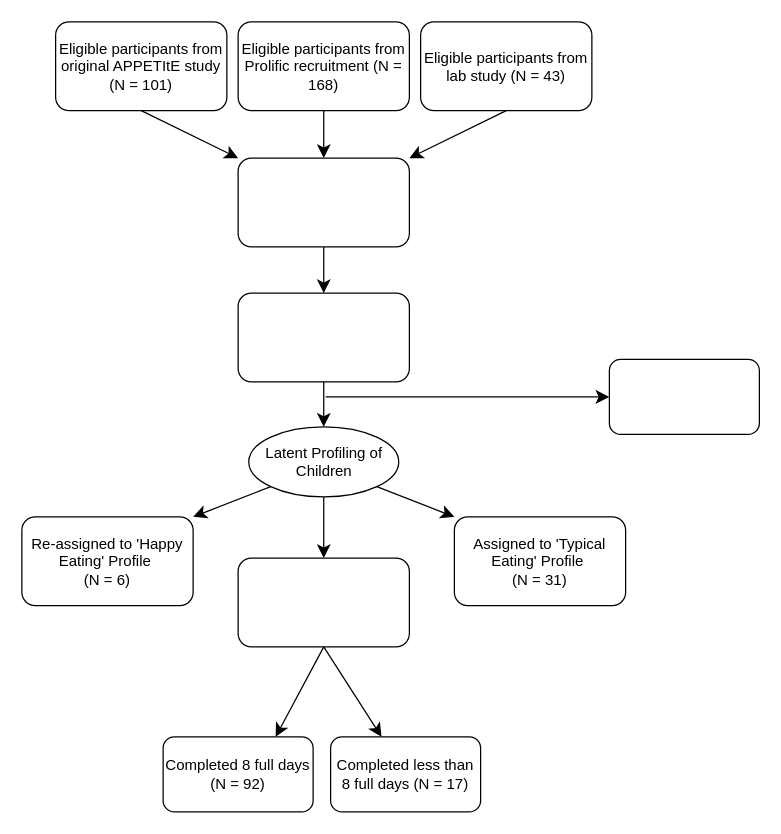
Some shapes in this 781 by 834 pixel diagram are drawn without their labels. The box of each missing label's shape, as (x1, y1, x2, y2) in pixels:
Assigned to 'Avid Eating' Profile (N = 109): (237, 557, 409, 647)
Begun EMA study (N = 148): (237, 292, 409, 382)
Invited to EMA study (N = 312): (237, 157, 409, 247)
Withdrew from study (N = 2): (608, 358, 759, 434)
